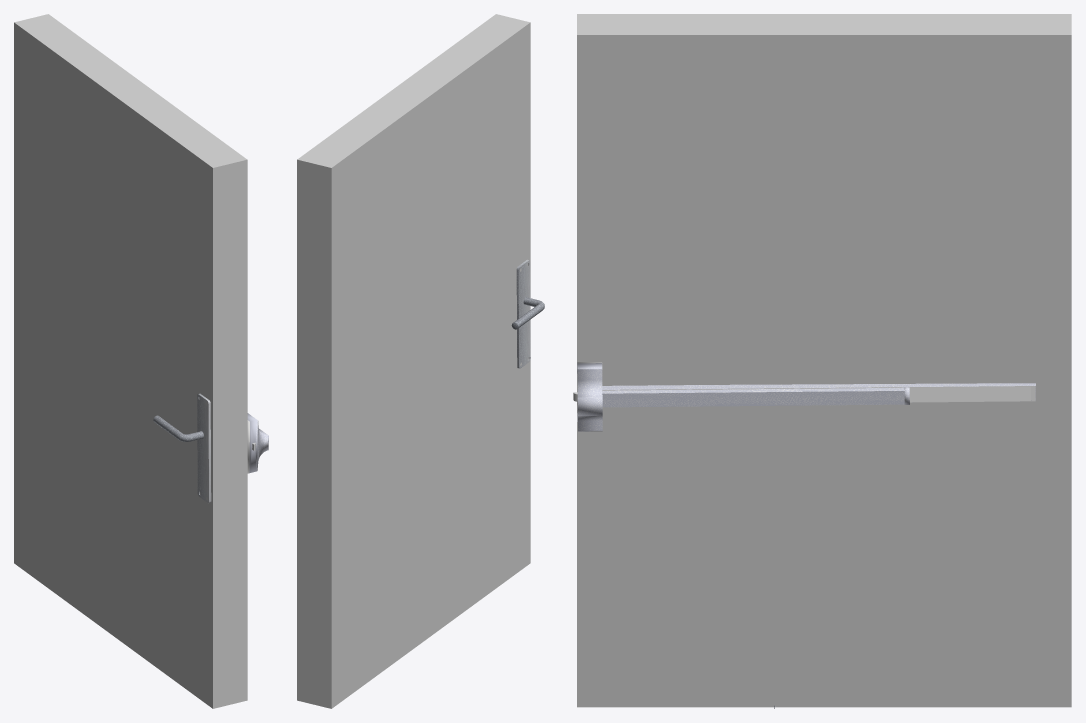
File: BASEMENT_DOOR.glb
The picture shows the model from 3 angles, left to right: view 1: azimuth 30°, elevation 25°; view 2: azimuth 150°, elevation 25°; view 3: azimuth 270°, elevation 25°; orthographic projection. The views are drawn at different scales.
Parts seen in each view (by area): view 1: Cube, plancha.005, group_1, manilla.003; view 2: Cube, plancha.005, manilla.003; view 3: Cube, group_3.001, group_3, group_1.
Boxes of the visible parts, x1,y1,x2,y2 form: Cube: [14, 14, 247, 708]; plancha.005: [197, 393, 211, 503]; group_1: [247, 413, 268, 473]; manilla.003: [153, 415, 203, 441]; Cube: [297, 14, 530, 708]; plancha.005: [516, 259, 530, 368]; manilla.003: [511, 297, 544, 329]; Cube: [577, 14, 1071, 707]; group_3.001: [602, 387, 909, 407]; group_3: [602, 383, 1035, 402]; group_1: [577, 362, 602, 431].
Bounding box in the file's own units: 0.4663 × 3 × 2.01.
Materials: 7 (2 with a texture image).
